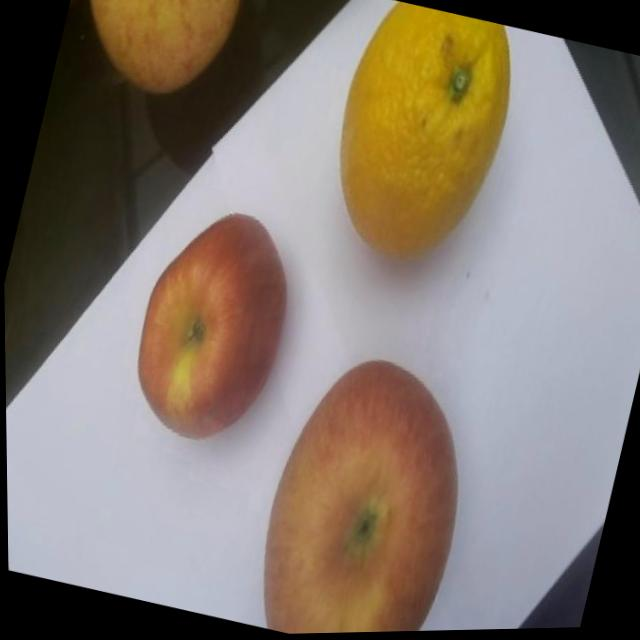Apple: (237, 343, 489, 636), (114, 196, 307, 458), (53, 0, 249, 113)
Orange: (309, 0, 529, 280)
